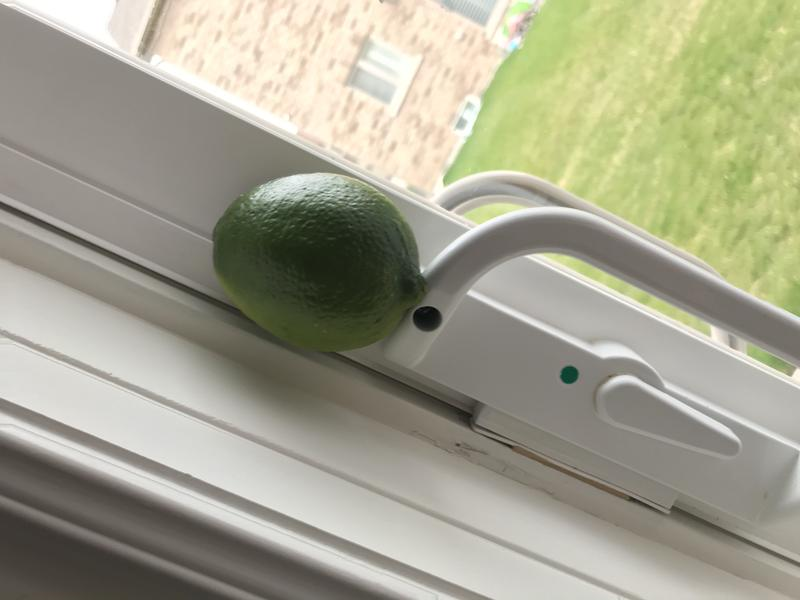lime: (199, 163, 451, 362)
